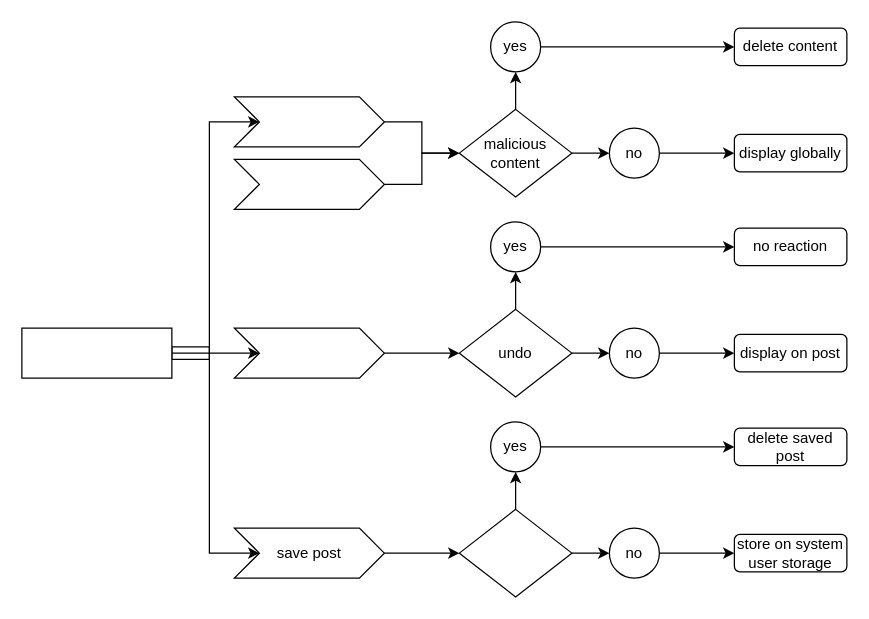
Some shapes in this 869 by 619 pixel diagram are drawn without their labels. The shapes that lost their labels are listed below. From the top down, each one's centre as x and y in pixels, then its label:
(x=308, y=121): create post
(x=308, y=183): comment post
(x=96, y=352): User
(x=308, y=352): react post
(x=515, y=552): unsaved
